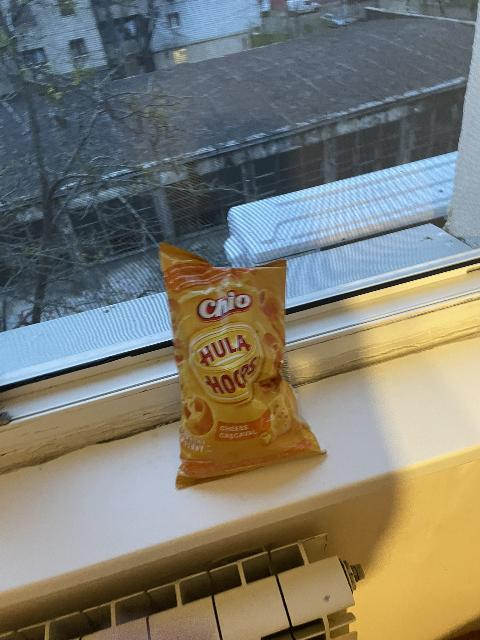Chio Hula Hoops Cheese 70g: (158, 249, 328, 482)
